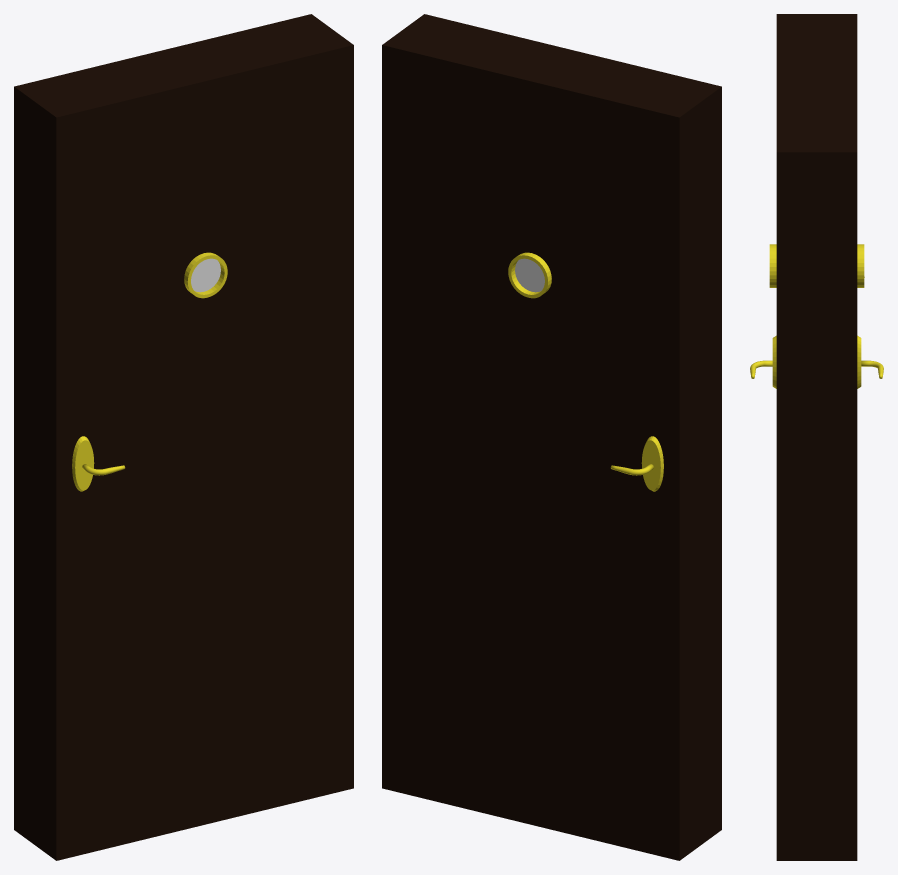
File: puerta_principal.fbx
3 renders of one model, left to right at view 1: azimuth 30°, elevation 25°; view 2: azimuth 150°, elevation 25°; view 3: azimuth 270°, elevation 25°, orthographic. The views are drawn at different scales.
Parts seen in each view (by area): view 1: Cube; view 2: Cube; view 3: Cube, Torus.
Part boxes in pixels (bbox=[...]): Cube: bbox=[14, 14, 353, 860]; Cube: bbox=[382, 14, 721, 860]; Cube: bbox=[769, 14, 864, 860]; Torus: bbox=[750, 360, 883, 378].
Bounding box in the file's own units: 81.72 × 195 × 33.4.
